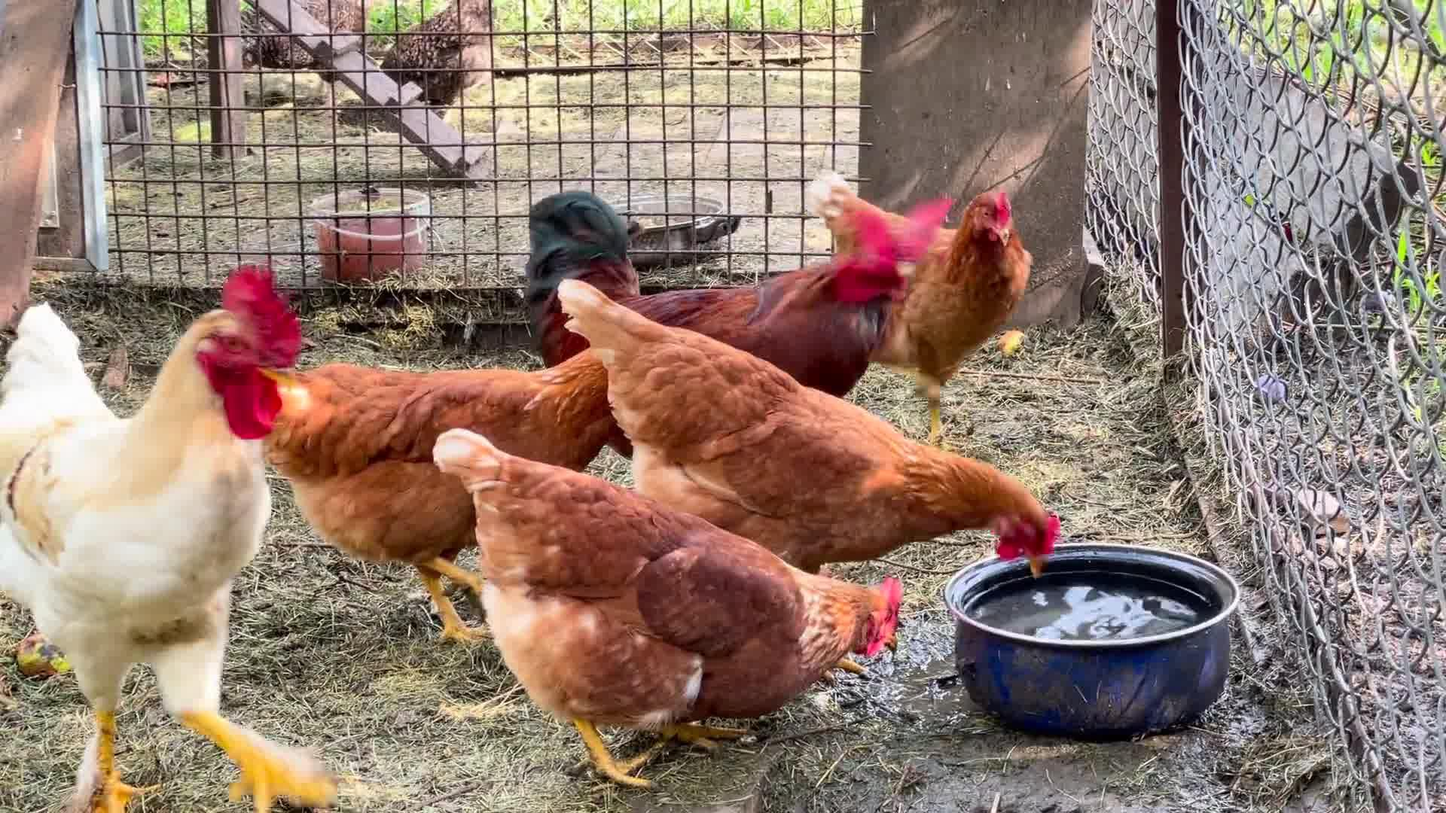Normal: (0, 269, 350, 813), (430, 431, 900, 756), (526, 185, 971, 471), (275, 364, 640, 642), (821, 181, 1055, 437)
